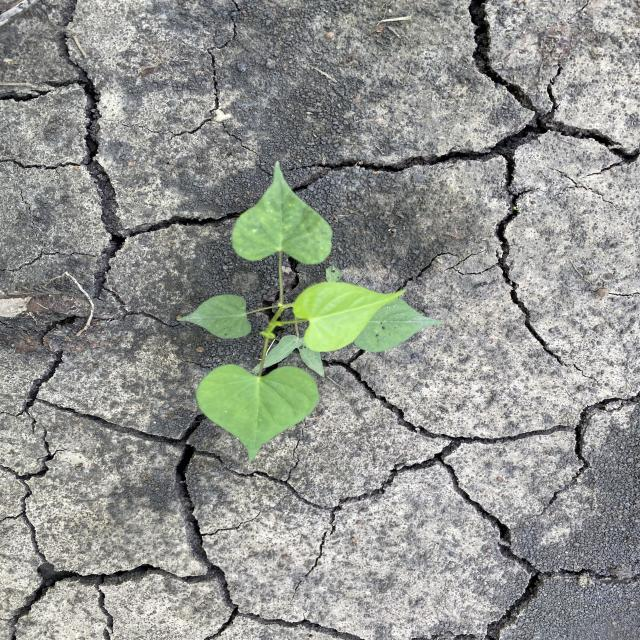MorningGlory: (173, 158, 449, 463)
